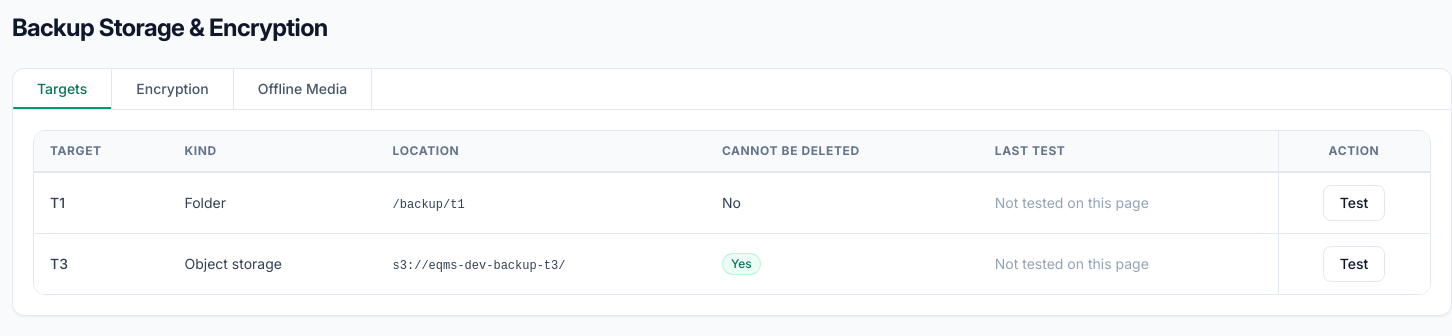
Test case: Backup Storage & Encryption › shows the targets, and the encryption facts on their own tab
Expected: the text "/backup/t1" is shown, [393,198,465,212]
Expected: the text "s3://eqms-dev-backup-t3/" is shown, [393,259,565,273]
What coordinates should you click on to do the following:
click the tab "Encryption"
I would click on:
 (173, 89)
Its box is [112,69,234,109].
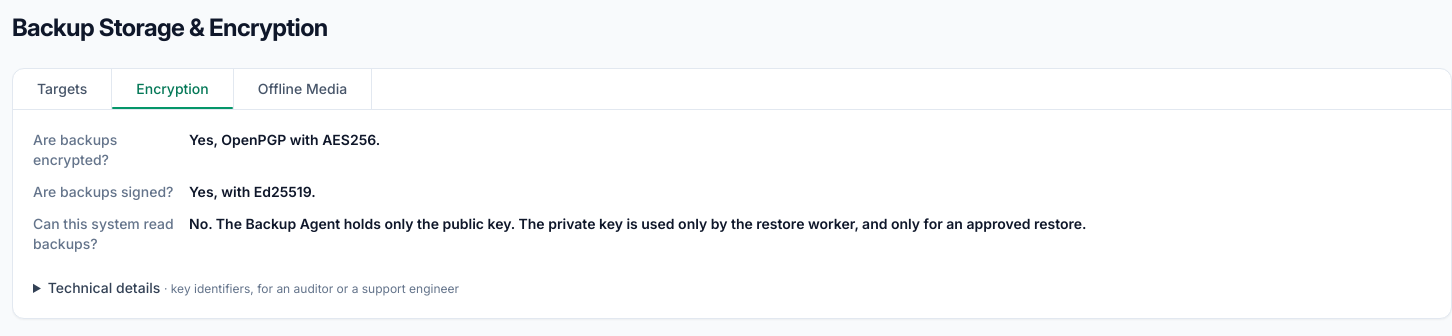
Now the text "Yes, OpenPGP with AES256." is shown, box [189,131,380,148]
Now the text "The Backup Agent holds only the public key" is shown, box [189,215,1086,232]
